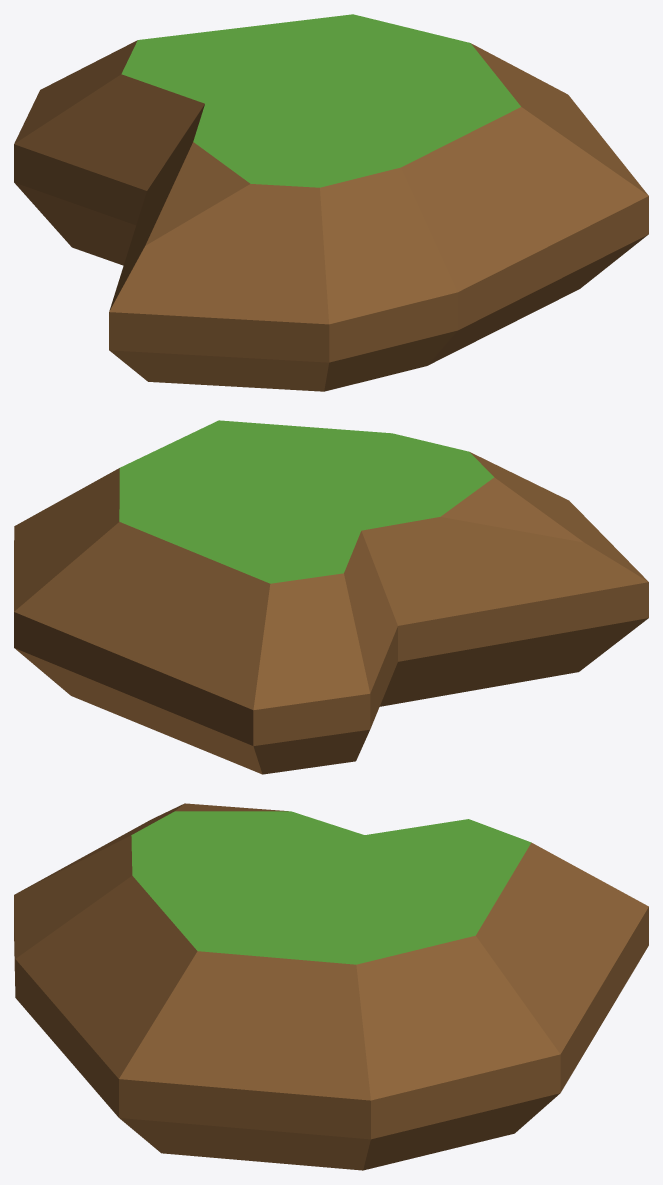
File: sn_rock_flat.glb
The picture shows the model from 3 angles, top to bottom: view 1: azimuth 30°, elevation 25°; view 2: azimuth 150°, elevation 25°; view 3: azimuth 270°, elevation 25°; orthographic projection. The views are drawn at different scales.
Parts seen in each view (by area): view 1: sn_rock_flat; view 2: sn_rock_flat; view 3: sn_rock_flat.
Boxes of the visible parts, bbox=[...] form: sn_rock_flat: bbox=[14, 14, 648, 391]; sn_rock_flat: bbox=[14, 420, 648, 774]; sn_rock_flat: bbox=[14, 803, 648, 1170].
Bounding box in the file's own units: 3.19 × 0.9633 × 3.05.
